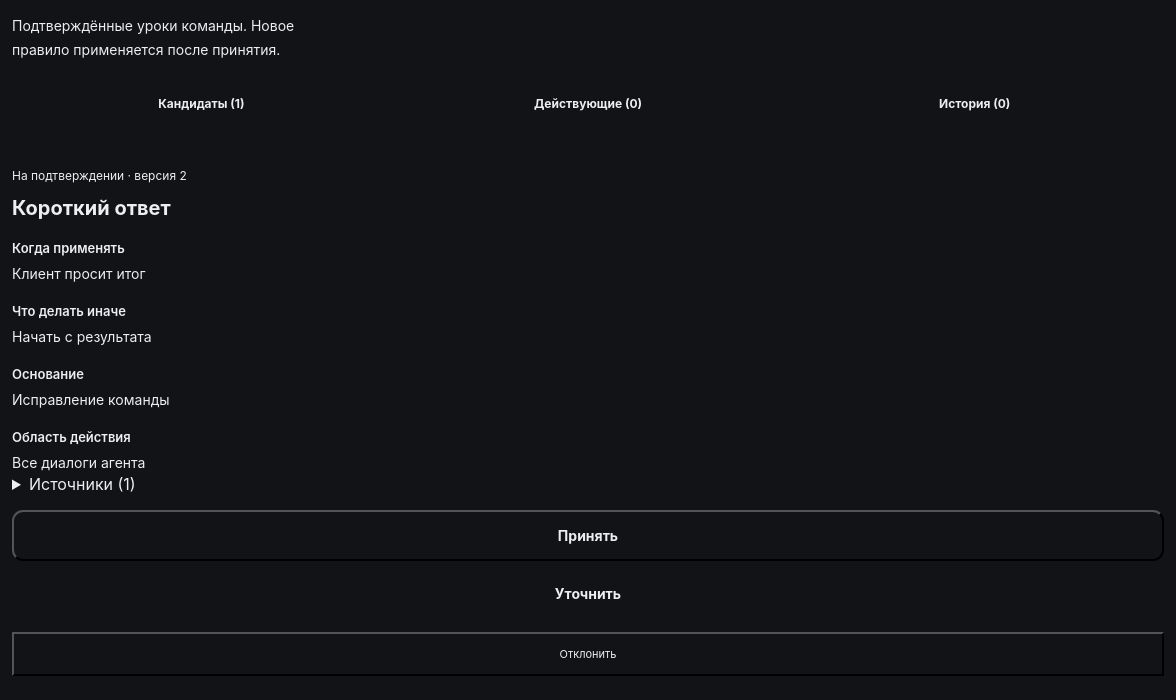
Test case: показывает конфликт и позволяет обновить список
(page scrolled)
Click the button "Отклонить": (588, 654) [12,632,1164,676]
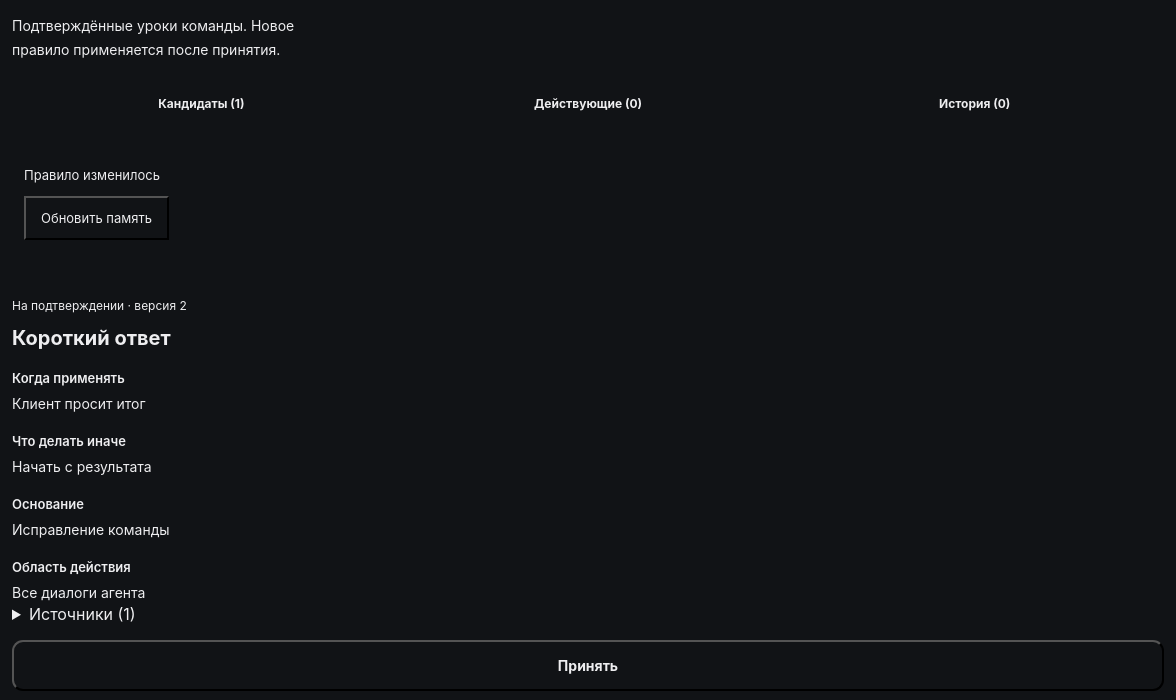
Expected: the message shows "Правило изменилось", [24,167,160,183]
Click the button "Обновить память": (96, 218) [24,196,169,240]
(page scrolled)
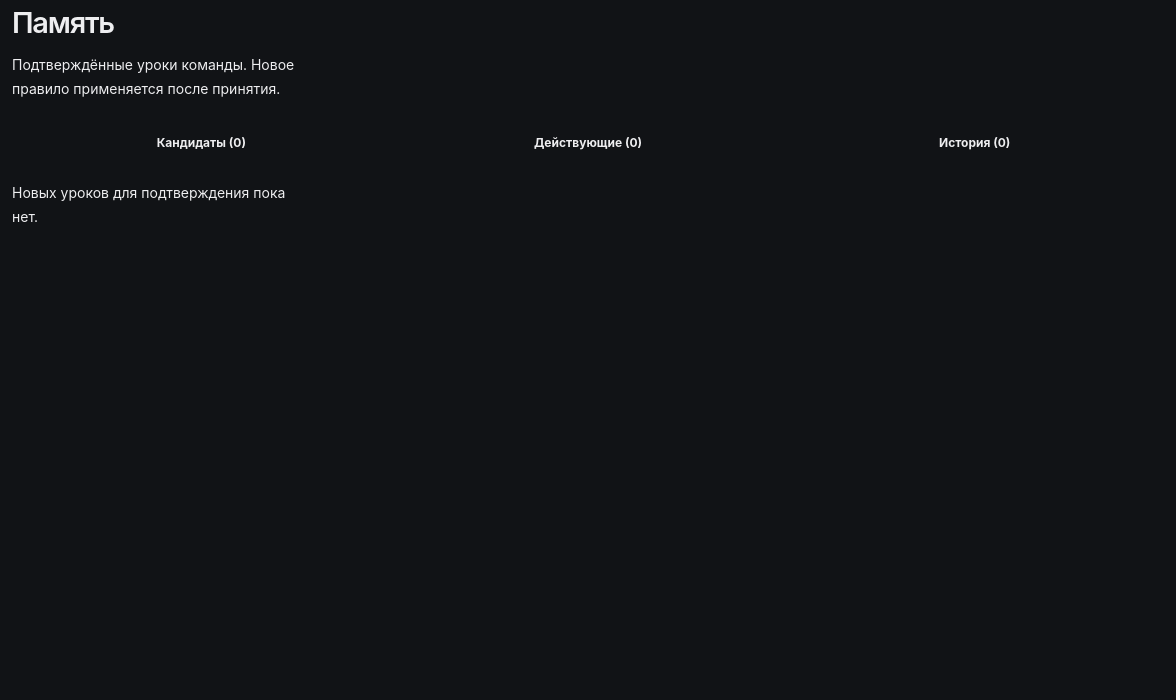
Expected: the text "Новых уроков для подтверждения пока нет." is shown, [12,181,312,228]
